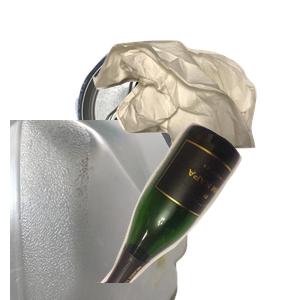glass: (87, 120, 300, 300)
metal: (73, 42, 277, 212)
plastic: (10, 120, 190, 300)
trash: (90, 38, 300, 183)
